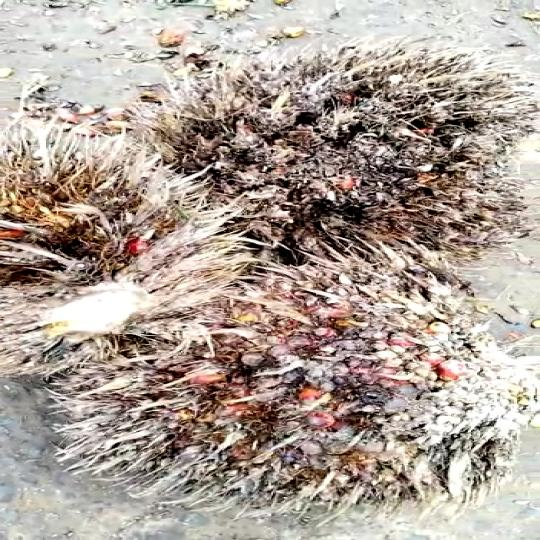terlalu masak: (63, 238, 493, 514), (139, 31, 540, 246)
